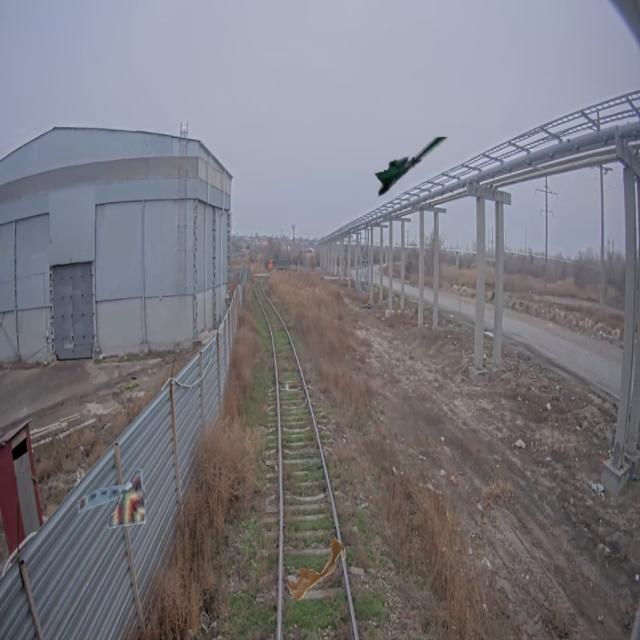floating object: (374, 132, 450, 196), (78, 465, 150, 529), (287, 536, 346, 600)
